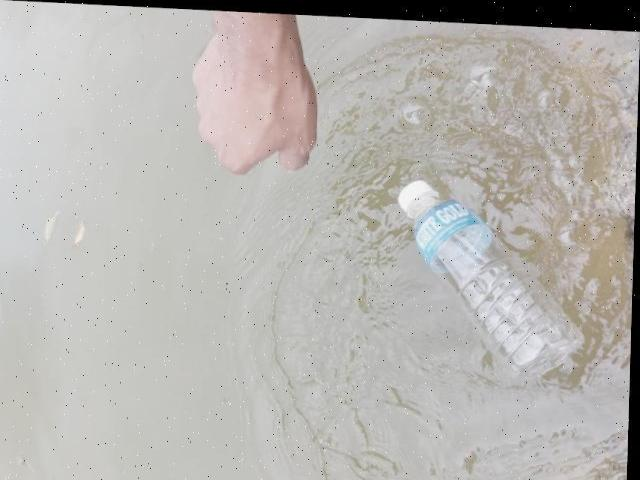Bottle: (388, 179, 593, 385)
Hand: (176, 0, 328, 179)
